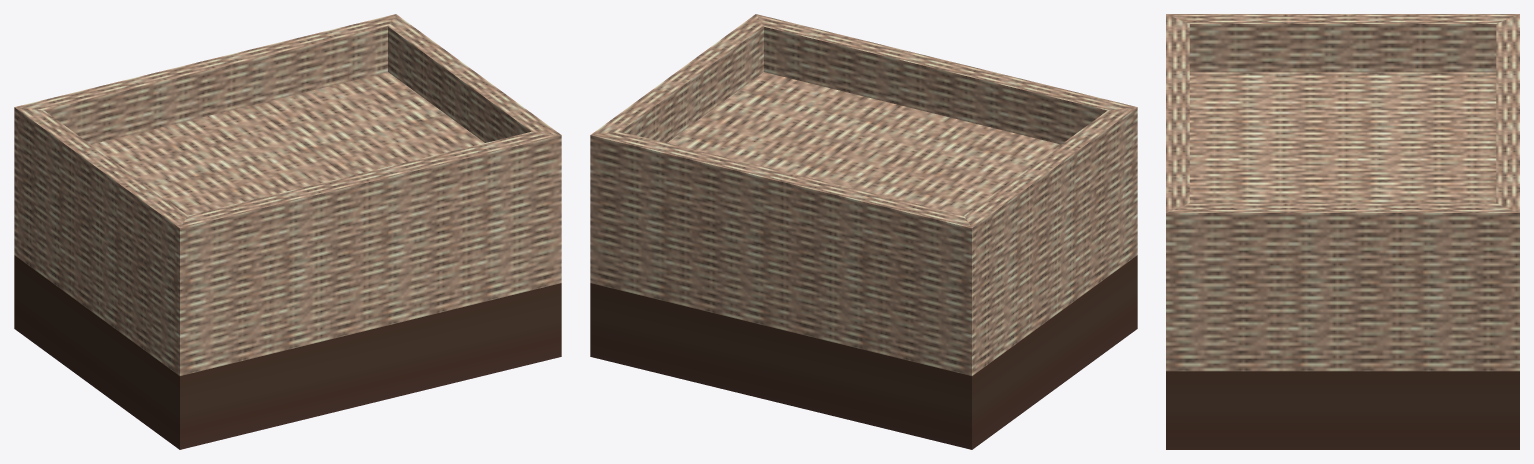
File: giftgoods111_02.fbx
The picture shows the model from 3 angles, left to right: view 1: azimuth 30°, elevation 25°; view 2: azimuth 150°, elevation 25°; view 3: azimuth 270°, elevation 25°; orthographic projection. The views are drawn at different scales.
Parts seen in each view (by area): view 1: giftgoods111_02; view 2: giftgoods111_02; view 3: giftgoods111_02.
Boxes of the visible parts, x1,y1,x2,y2 form: giftgoods111_02: (14,14,561,449); giftgoods111_02: (590,14,1137,449); giftgoods111_02: (1166,14,1519,449).
Size of the model in its own units: 1.13 by 0.6253 by 0.8462.
